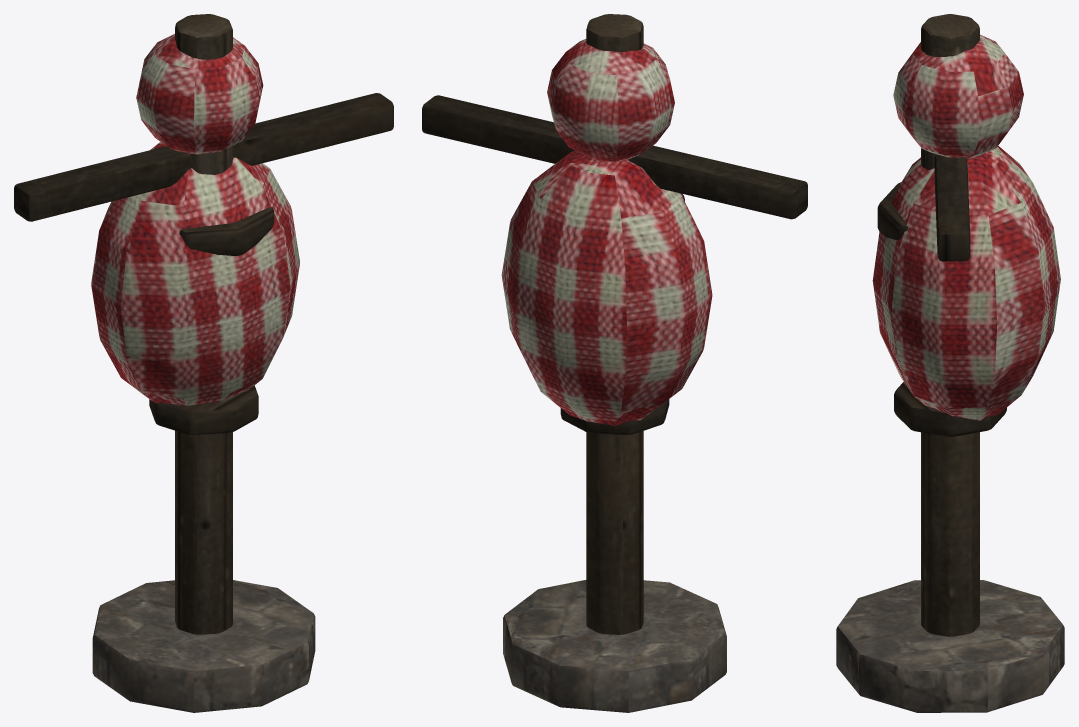
The model's file is training-dummy.glb.
3 views of the same model, side by side, from view 1: azimuth 30°, elevation 25°; view 2: azimuth 150°, elevation 25°; view 3: azimuth 270°, elevation 25° (orthographic).
Visible parts, largest first — view 1: Dummy; view 2: Dummy; view 3: Dummy.
Part boxes in pixels (x1,y1,x2,y2): Dummy: (14, 14, 393, 712); Dummy: (422, 14, 807, 712); Dummy: (836, 14, 1064, 712).
Bounding box in the file's own units: 1.05 × 1.74 × 0.5599.
4 materials, 4 textured.
